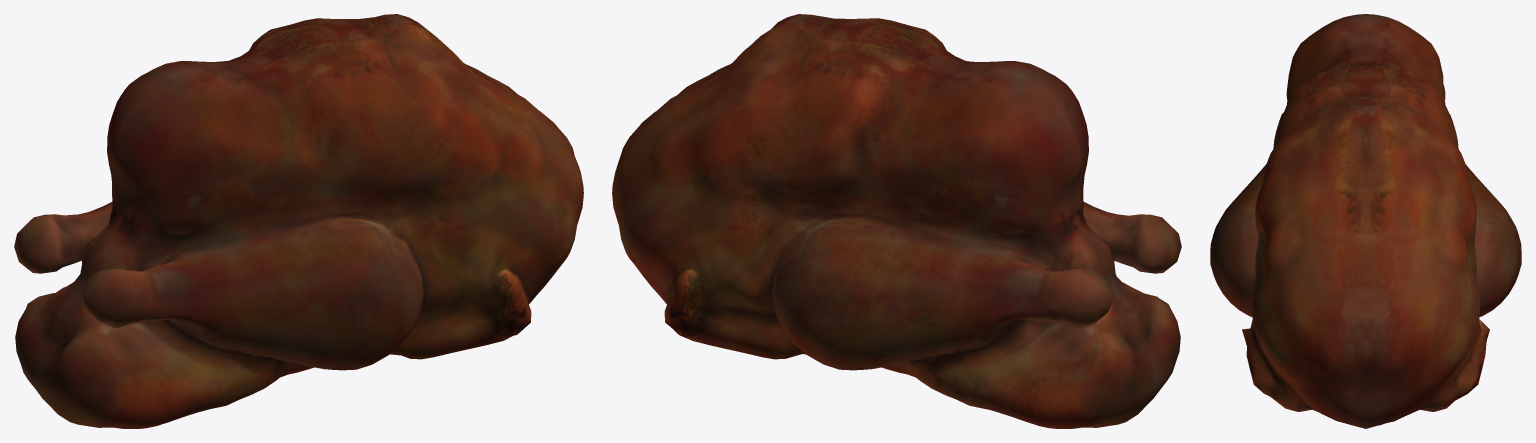
The model's file is turkeyfriedpainted.obj.
3 views of the same model, side by side, from view 1: azimuth 30°, elevation 25°; view 2: azimuth 150°, elevation 25°; view 3: azimuth 270°, elevation 25° (orthographic). The views are drawn at different scales.
Visible parts, largest first — view 1: Volume1; view 2: Volume1; view 3: Volume1.
Boxes of the visible parts, x1=… form: Volume1: x1=14, y1=14, x2=583, y2=428; Volume1: x1=612, y1=14, x2=1181, y2=428; Volume1: x1=1210, y1=14, x2=1521, y2=428.
Size of the model in its own units: 440 by 273 by 255.
